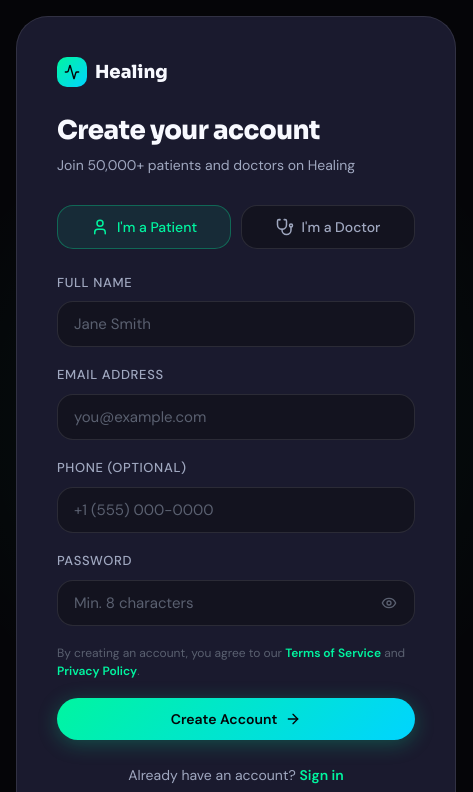
Test: RegisterPage › validates short passwords
In the field with placeholder "Jane Smith": (236, 324) [57,301,415,347], type "Test User"
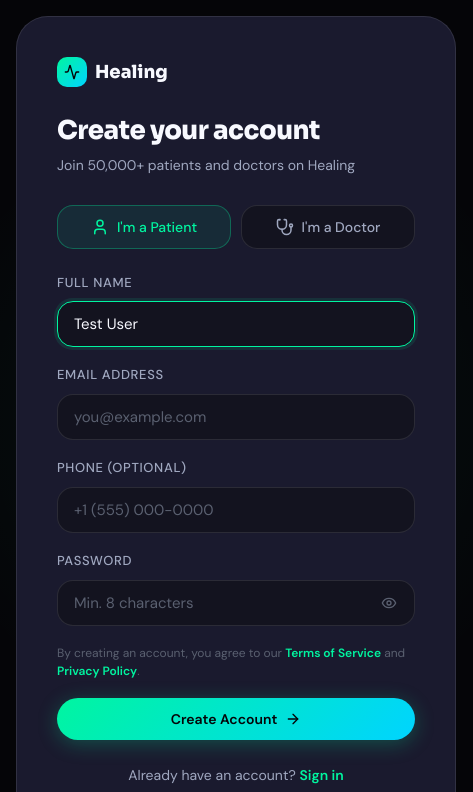
In the field with placeholder "you@example.com": (236, 417) [57,394,415,440], type "test@test.com"
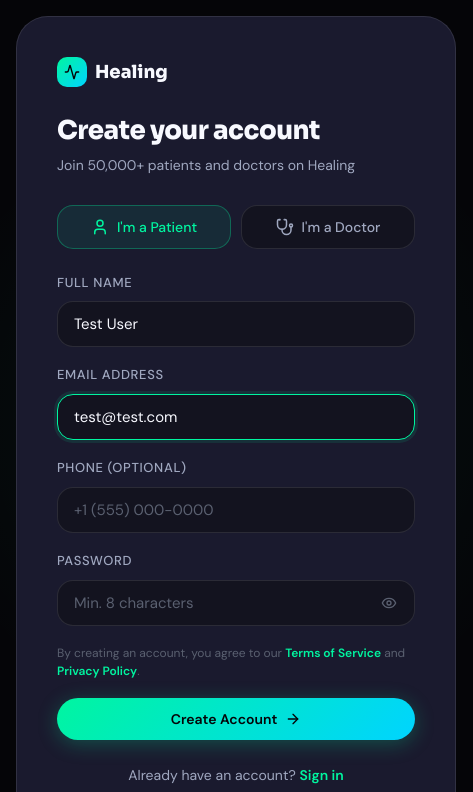
In the password field with placeholder "Min. 8 characters": (236, 603) [57,580,415,626], type "short"
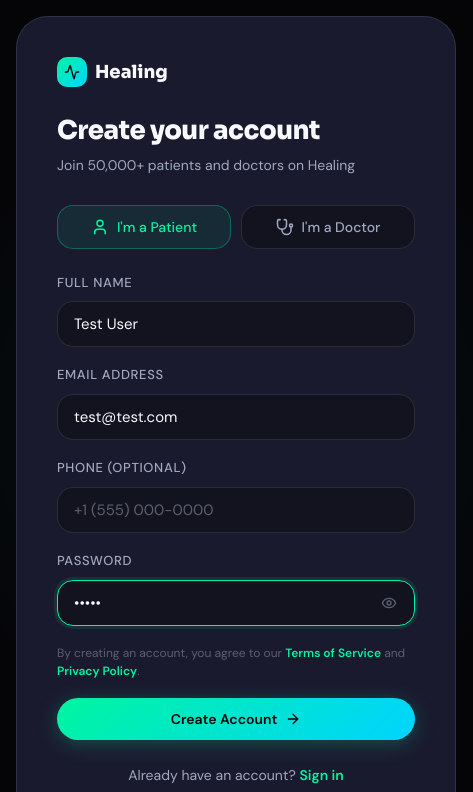
Click the button "Create Account": click(236, 719) [57,698,415,740]
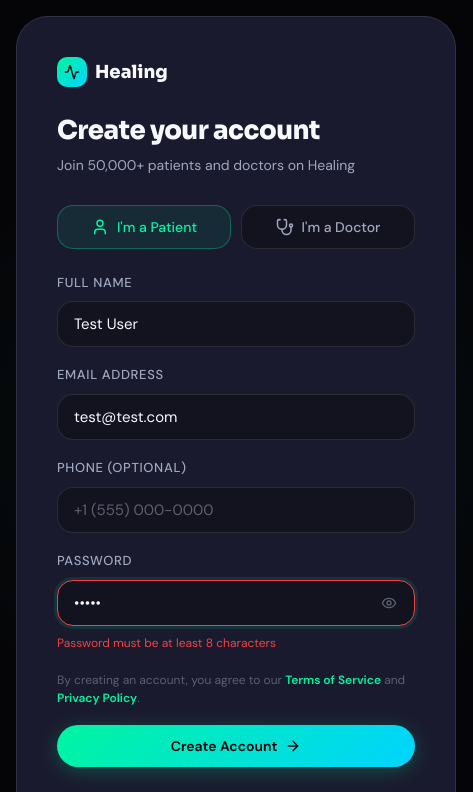
Expected: the text "Password must be at least 8 characters" is shown, [57,635,276,651]
